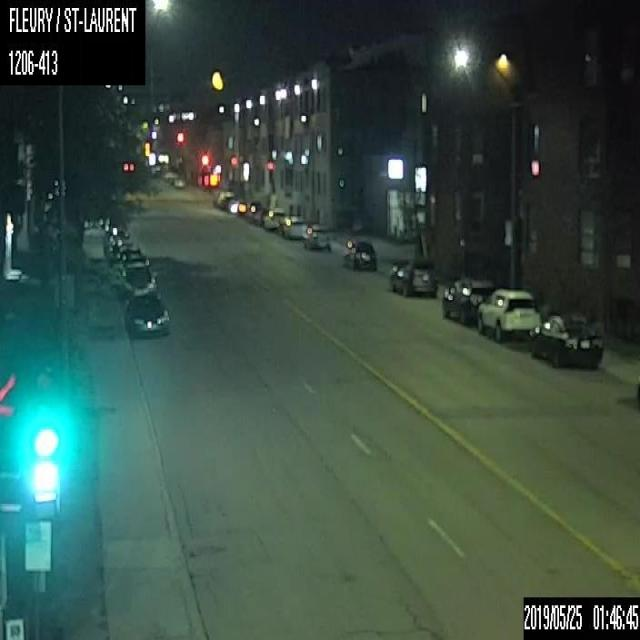vehicle: (530, 312, 604, 369), (476, 287, 541, 340), (442, 277, 494, 325), (126, 294, 168, 338), (392, 261, 437, 296), (339, 239, 376, 268), (122, 265, 158, 293), (304, 223, 329, 249), (280, 215, 305, 238), (262, 208, 283, 229)
